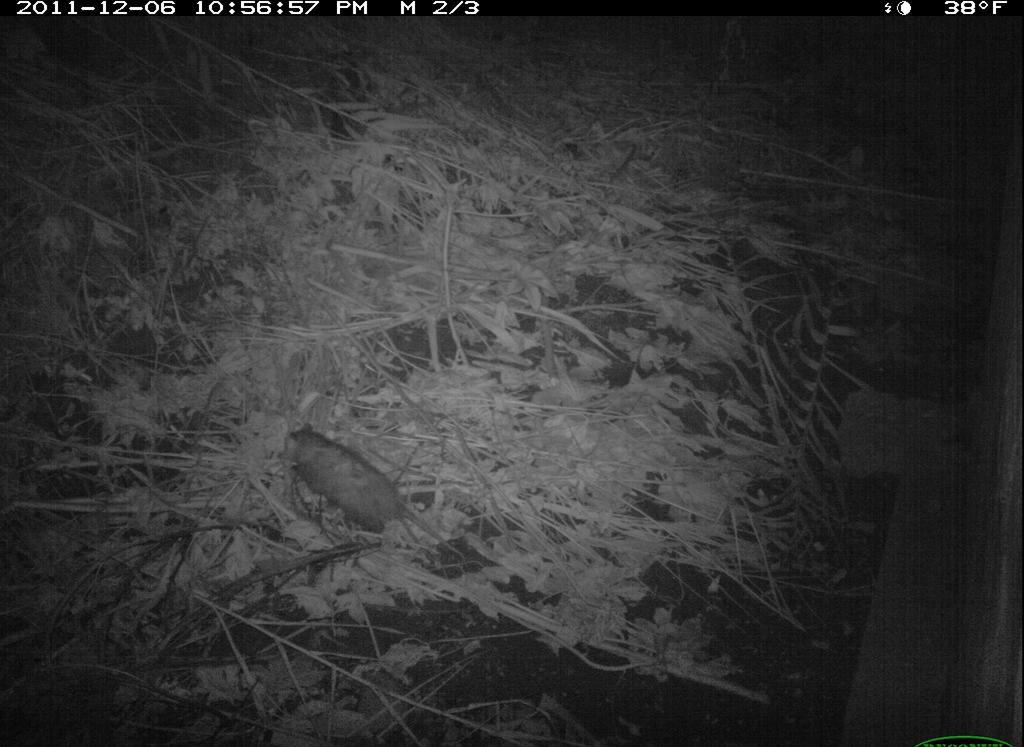opossum: (278, 419, 504, 603)
